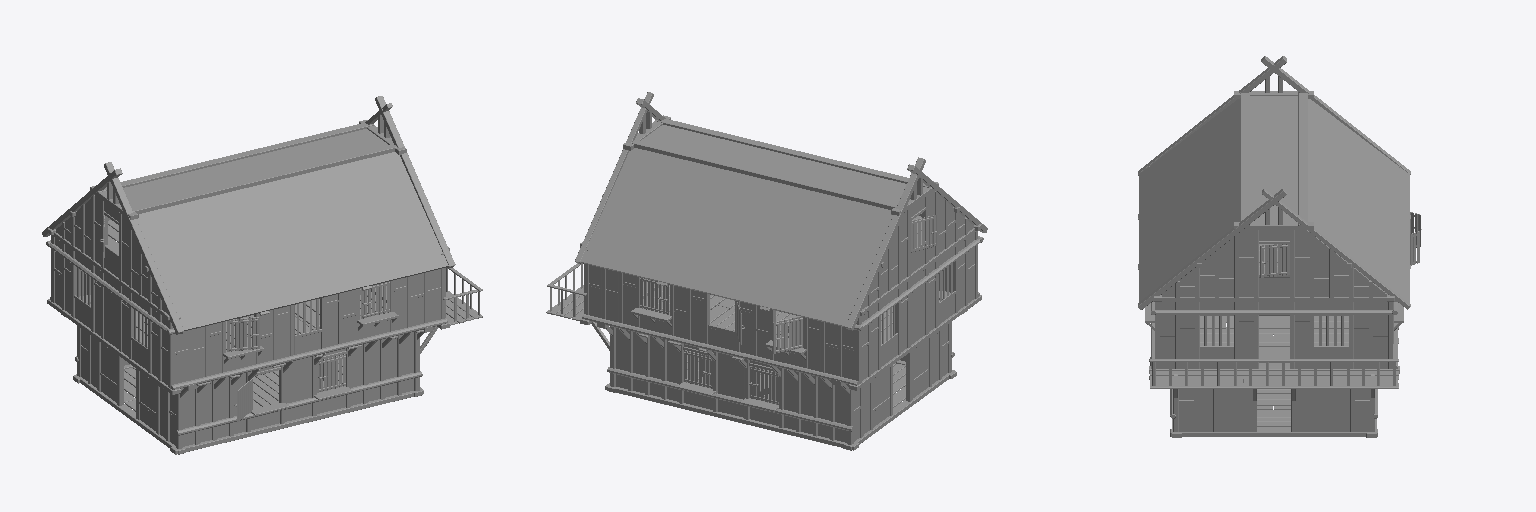
The model's file is -LOD0_c_hut_01.obj.
The picture shows the model from 3 angles: view 1: azimuth 30°, elevation 25°; view 2: azimuth 150°, elevation 25°; view 3: azimuth 270°, elevation 25°; orthographic projection.
Parts seen in each view (by area): view 1: Cube.027_Cube.008, Cube.025, Cube.026_Cube.021, Cube.023, Cube.024; view 2: Cube.027_Cube.008, Cube.025, Cube.026_Cube.021, Cube.018_Cube.009, Cube.016_Cube.004, Cube.019_Cube.027; view 3: Cube.025, Cube.027_Cube.008, Cube.026_Cube.021, Cube.021_Cube.022.
Boxes of the visible parts, box(x1,y1,x2,y2) form: Cube.027_Cube.008: box(123, 129, 448, 330); Cube.025: box(42, 96, 482, 454); Cube.026_Cube.021: box(55, 195, 440, 446); Cube.023: box(227, 317, 259, 351); Cube.024: box(361, 281, 389, 318); Cube.027_Cube.008: box(580, 125, 906, 326); Cube.025: box(546, 92, 987, 450); Cube.026_Cube.021: box(589, 191, 974, 442); Cube.018_Cube.009: box(773, 316, 802, 353); Cube.016_Cube.004: box(911, 215, 937, 252); Cube.019_Cube.027: box(640, 277, 668, 314); Cube.025: box(1138, 56, 1410, 437); Cube.027_Cube.008: box(1139, 96, 1409, 303); Cube.026_Cube.021: box(1160, 230, 1387, 431); Cube.021_Cube.022: box(1260, 244, 1289, 277).
Size of the model in its own units: 19.05 by 14.32 by 14.46.